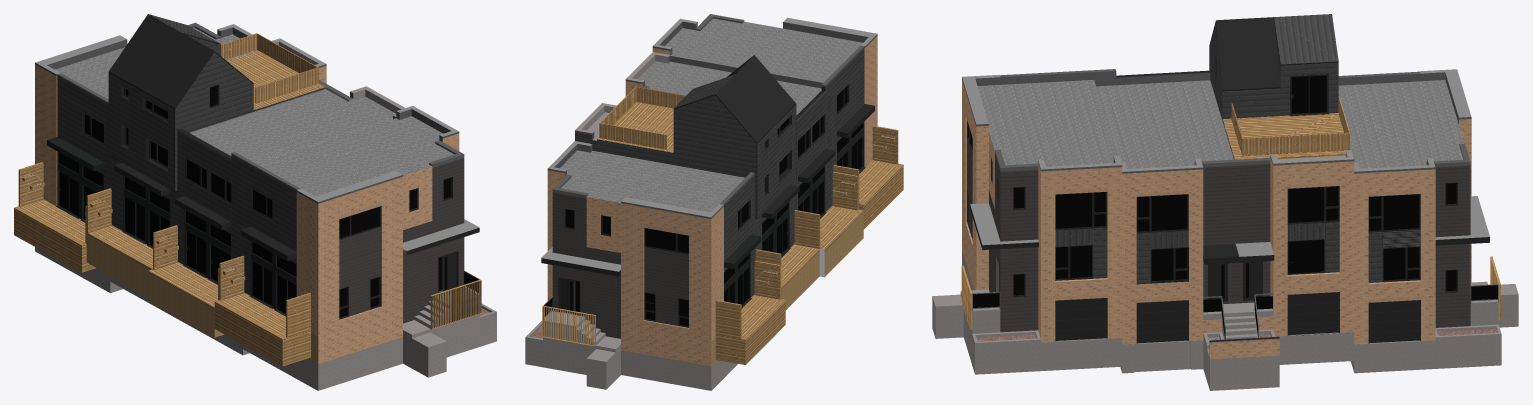
The model's file is Houses2.FBX.
3 views of the same model, side by side, from view 1: azimuth 30°, elevation 25°; view 2: azimuth 150°, elevation 25°; view 3: azimuth 270°, elevation 25° (orthographic). The views are drawn at different scales.
Visible parts, largest first — view 1: Mesh27, Mesh15, Mesh23, Mesh03, planche_60, Frame_2_7, Frame_2_1, Group_81_1, Group_36_3, Group_46_1, Group_81_2, fen_9pi_01 (+3 smaller); view 2: Mesh03, Mesh15, Mesh27, Mesh23, fen_4pi_6p, Group_36_1, Group_81_1, Group_81_2, Frame_2_1, Frame_2_7, Group_46_1, Mesh05; view 3: Mesh15, Mesh27, Mesh23, Mesh03, fen_4pi_6p, Mesh01, Mesh25, fen_8pi403, fen_5pi103, Mesh17, planche_60.
Part boxes in pixels (<box>): Mesh27: <box>214,106,496,390</box>; Mesh15: <box>86,14,329,318</box>; Mesh23: <box>148,86,404,355</box>; Mesh03: <box>14,22,257,293</box>; planche_60: <box>430,279,481,329</box>; Frame_2_7: <box>249,259,296,316</box>; Frame_2_1: <box>56,169,97,222</box>; Group_81_1: <box>18,162,44,206</box>; Group_36_3: <box>219,256,245,300</box>; Group_46_1: <box>86,188,112,232</box>; Group_81_2: <box>285,293,310,337</box>; fen_9pi_01: <box>339,206,380,239</box>; Mesh03: <box>525,141,785,390</box>; Mesh15: <box>575,55,819,310</box>; Mesh27: <box>652,14,903,229</box>; Mesh23: <box>625,52,863,277</box>; fen_4pi_6p: <box>558,199,750,327</box>; Group_36_1: <box>754,260,780,299</box>; Group_81_1: <box>715,300,741,338</box>; Group_81_2: <box>872,125,898,164</box>; Frame_2_1: <box>724,264,751,308</box>; Frame_2_7: <box>837,134,865,173</box>; Group_46_1: <box>755,249,781,287</box>; Mesh05: <box>645,293,688,317</box>; Mesh15: <box>1209,14,1354,388</box>; Mesh27: <box>932,70,1122,374</box>; Mesh23: <box>1093,69,1244,390</box>; Mesh03: <box>1338,69,1518,373</box>; fen_4pi_6p: <box>1368,182,1457,292</box>; Mesh01: <box>1368,300,1420,343</box>; Mesh25: <box>1055,298,1107,341</box>; fen_8pi403: <box>1055,192,1107,230</box>; fen_5pi103: <box>1055,245,1093,280</box>; Mesh17: <box>1287,240,1320,273</box>; planche_60: <box>961,265,972,329</box>.
Size of the model in its own units: 663 by 597 by 1112.
25 materials, 18 textured.
